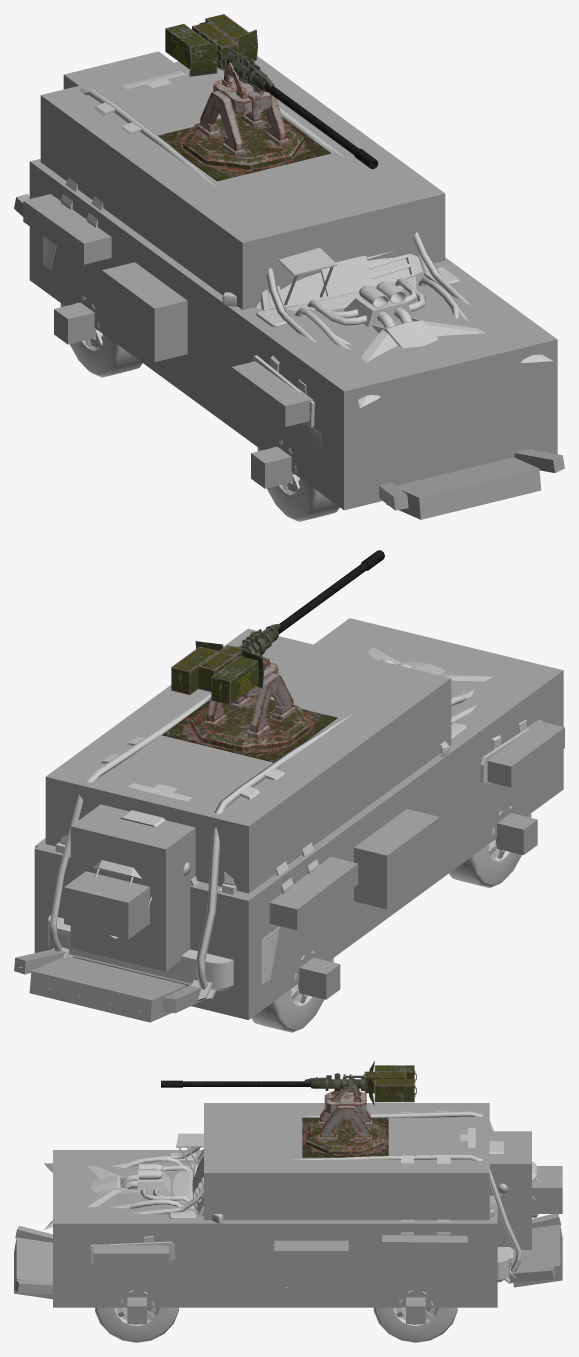
The model's file is mh_FrancescoFurfari_HummerH3_000.fbx.
3 renders of one model, top to bottom at view 1: azimuth 30°, elevation 25°; view 2: azimuth 150°, elevation 25°; view 3: azimuth 270°, elevation 25°, orthographic. The views are drawn at different scales.
Parts seen in each view (by area): view 1: pCube1, pCube2, Armor, Gun, pCube23, CarBody, Turret, pCube11, pCube5, pCube4, Wheel_FR, Wheel_RR (+5 smaller); view 2: pCube2, pCube1, pCube17, Armor, Gun, pCube23, pCube15, Turret, CarBody, pCube18, pCube5, pCube4 (+7 smaller); view 3: pCube1, pCube2, Armor, Gun, pCube17, pCube24, Turret, CarBody, Wheel_RL, Wheel_FL, pCube6, pCube3 (+9 smaller).
Part boxes in pixels (box(x1,y1,x2,y2)): pCube1: box(29, 159, 557, 510); pCube2: box(40, 56, 445, 309); Armor: box(61, 69, 552, 475); Gun: box(165, 14, 378, 169); pCube23: box(102, 262, 187, 362); CarBody: box(43, 71, 460, 450); Turret: box(183, 90, 303, 169); pCube11: box(386, 457, 541, 519); pCube5: box(23, 194, 111, 264); pCube4: box(231, 361, 312, 426); Wheel_FR: box(257, 440, 339, 521); Wheel_RR: box(60, 295, 142, 377); pCube2: box(45, 628, 451, 893); pCube1: box(34, 618, 563, 1019); pCube17: box(70, 804, 195, 971); Armor: box(18, 647, 542, 1011); Gun: box(171, 550, 384, 704); pCube23: box(354, 809, 439, 909); pCube15: box(29, 956, 186, 1022); Turret: box(189, 673, 310, 751); CarBody: box(48, 722, 467, 990); pCube18: box(64, 871, 149, 939); pCube5: box(269, 856, 358, 930); pCube4: box(487, 720, 564, 787); pCube1: box(53, 1150, 497, 1307); pCube2: box(204, 1103, 489, 1220); Armor: box(44, 1111, 562, 1303); Gun: box(161, 1061, 416, 1113); pCube17: box(489, 1131, 531, 1249); pCube24: box(274, 1240, 348, 1288); Turret: box(305, 1091, 385, 1154); CarBody: box(169, 1127, 513, 1282); Wheel_RL: box(373, 1290, 457, 1342); Wheel_FL: box(95, 1290, 178, 1342); pCube6: box(381, 1234, 467, 1257); pCube3: box(93, 1244, 169, 1268).
Size of what is drawn, in the model's own units: 236 by 268 by 569.
